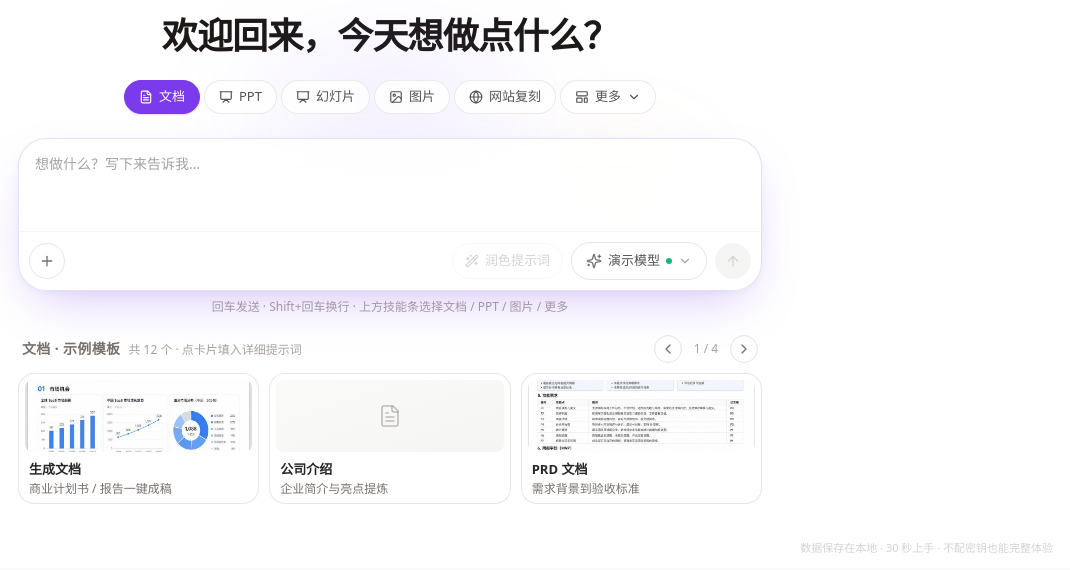
Scenario: ChatPanel 提示词优化 › 配置了密钥时用模型改写结果覆盖输入
In the text box: (390,184) top-left (19, 138), bottom-right (761, 230), type "粗糙需求"
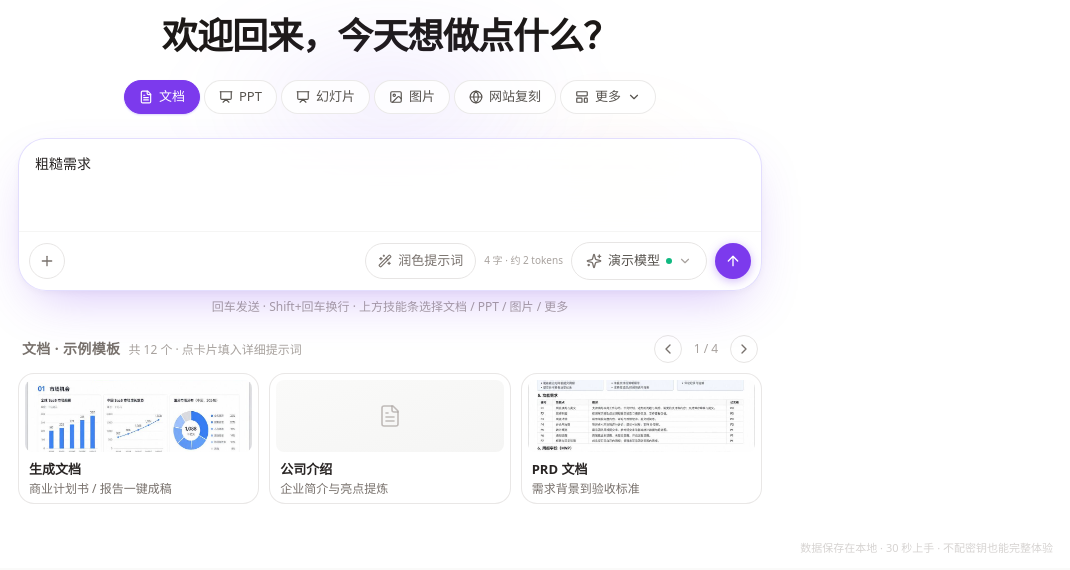
Click the button titled "优化提示词": (421,260) top-left (365, 242), bottom-right (476, 278)
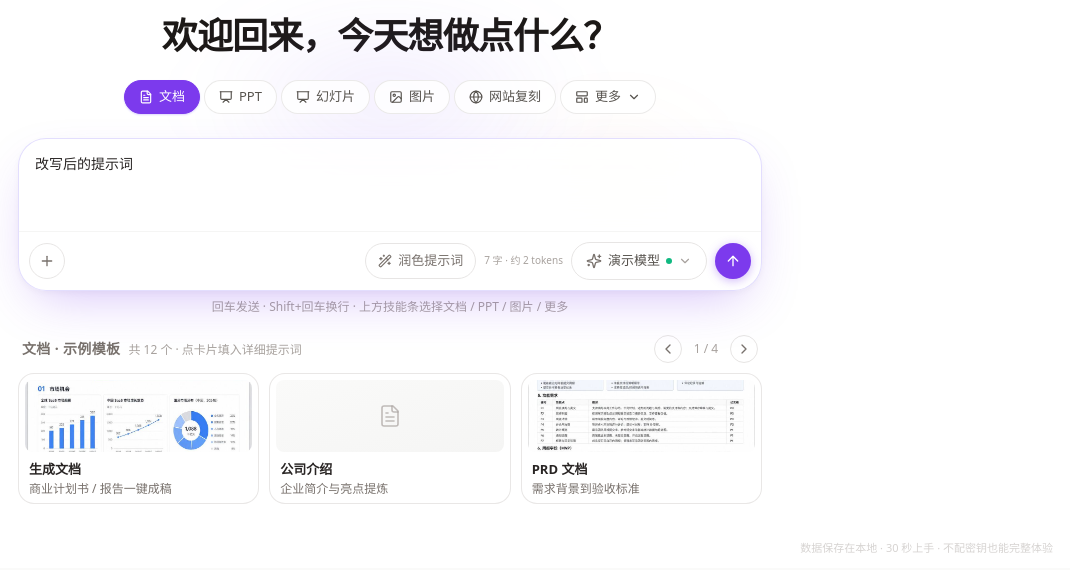
Expected: the text box holds "改写后的提示词", top-left (19, 138), bottom-right (761, 230)
